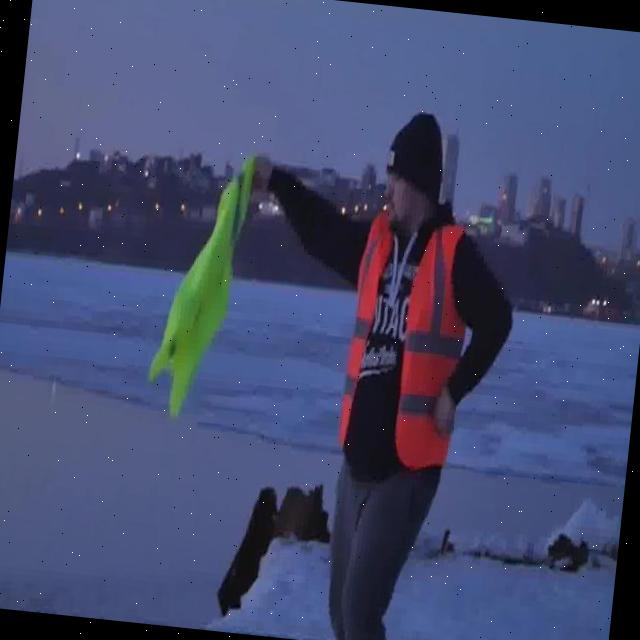vest: (333, 208, 475, 474), (140, 140, 262, 433)
